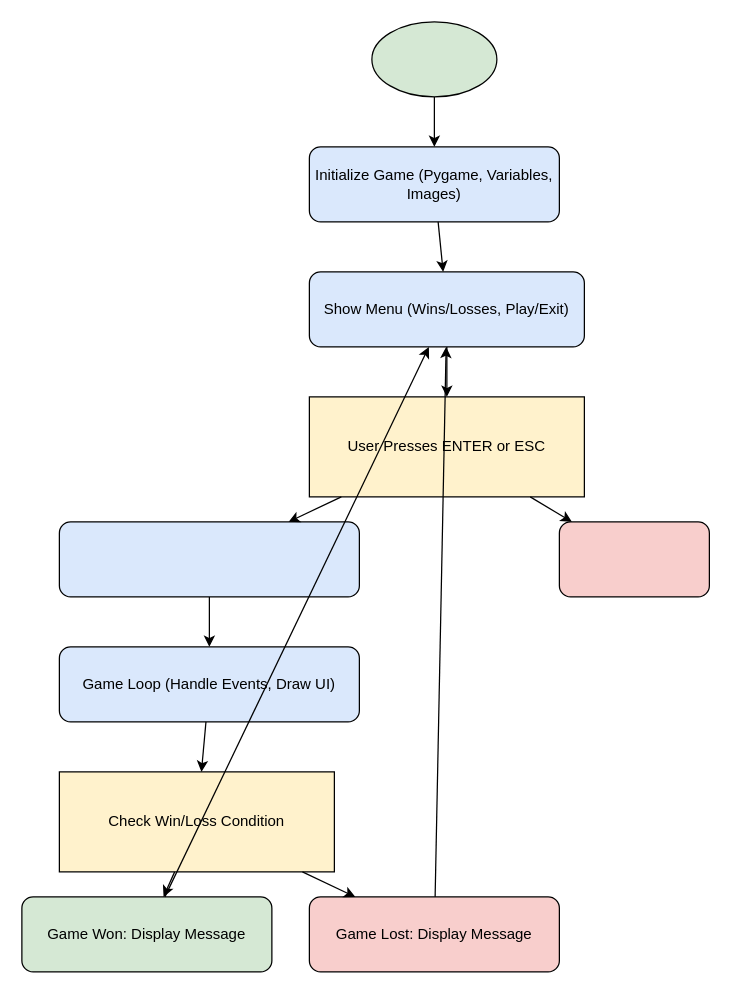
This 731x994 diagram has some shape labels left out. The box of each missing label's shape, as (x1, y1, x2, y2) in pixels:
Quit Game: (558, 521, 709, 597)
Start: (371, 21, 497, 97)
Start Game (Reset Variables, Choose Word): (58, 521, 359, 597)
